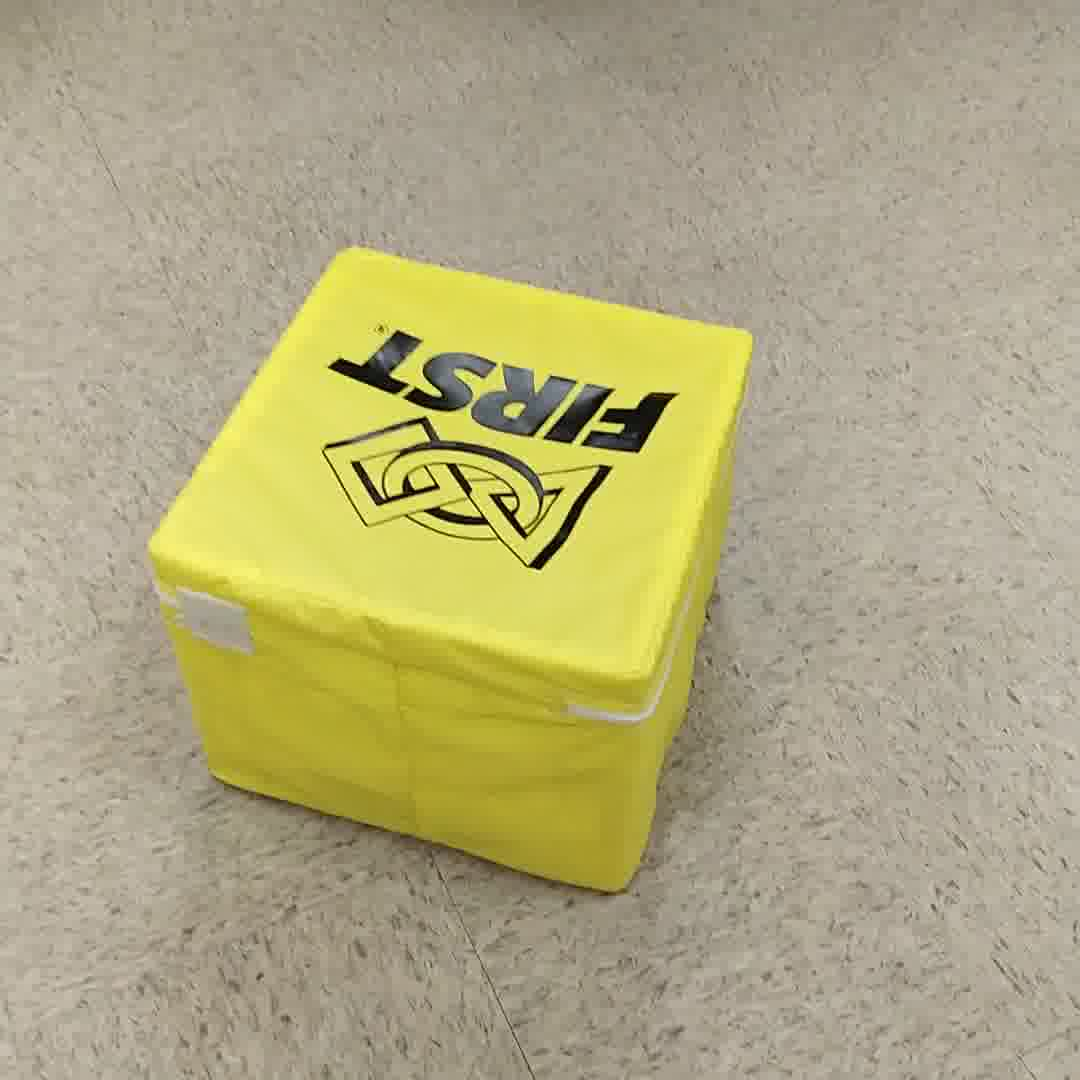box: (152, 240, 753, 896)
